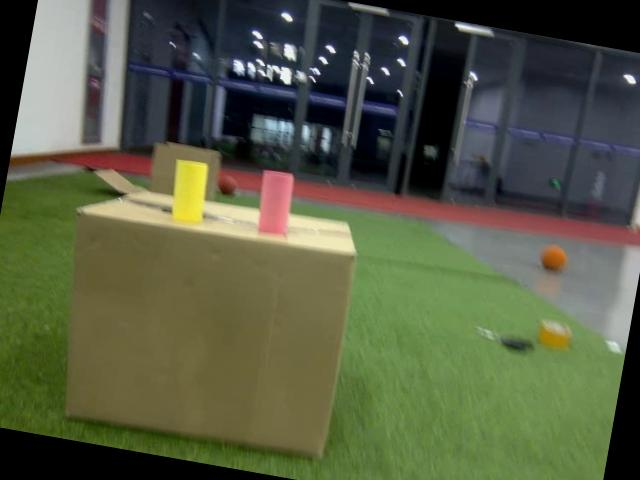orange_ball: (540, 243, 570, 274)
red_cylinder: (252, 168, 298, 236)
yellow_cylinder: (164, 156, 212, 229)
